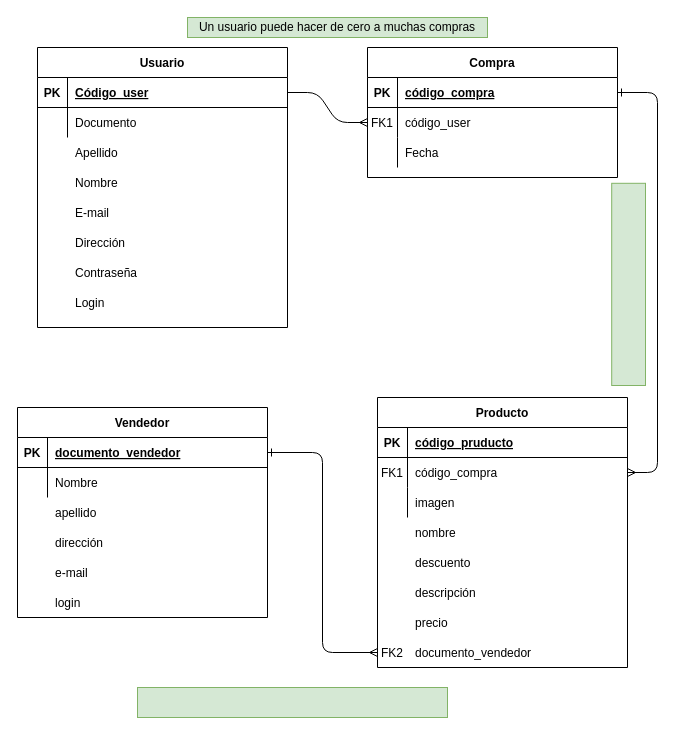
This 684x735 diagram has some shape labels left out. The centre of each missing label's shape, as x and y in pixels:
"Un vendedor puede proporcionar entre uno y muchos productos" belongs at point (292, 702).
"Una compra puede tener entre uno y muchos produtos" belongs at point (628, 284).
